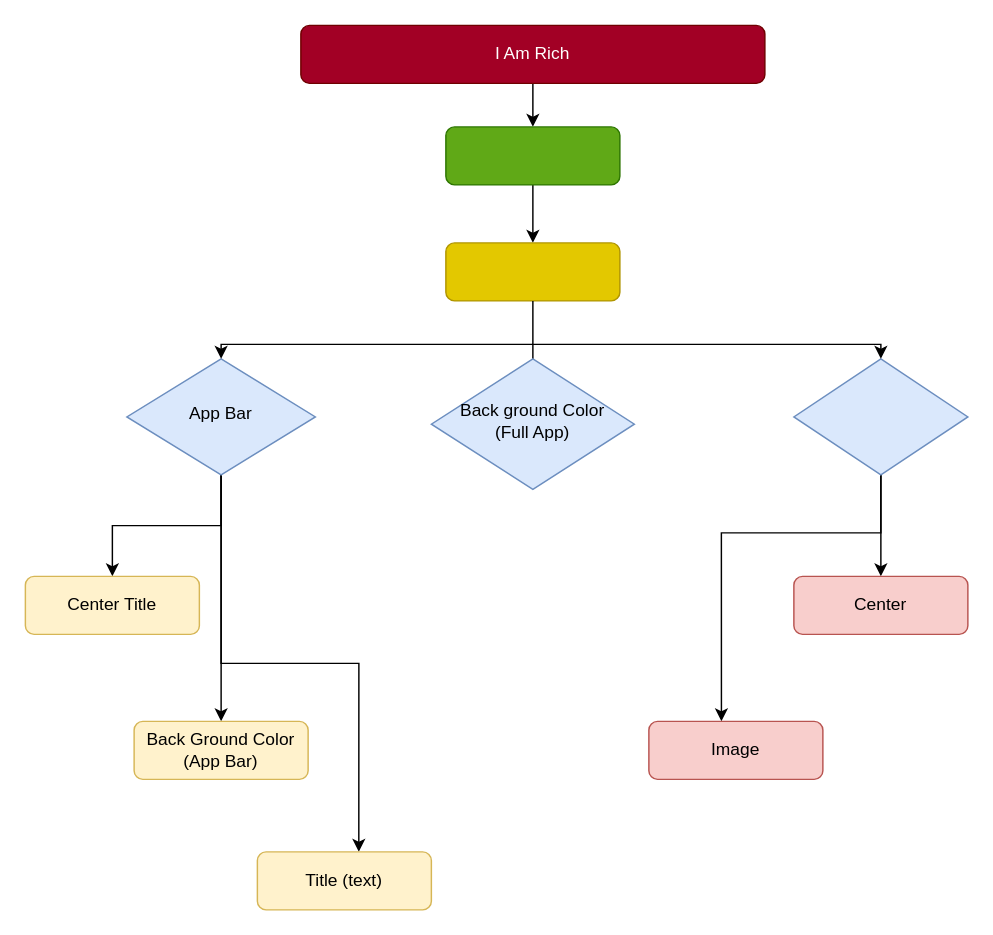
Some shapes in this 993 by 935 pixel diagram are drawn without their labels. The shapes that lost their labels are listed below. From the top down, each one's centre as x and y in pixels, then its label:
At point (532, 155): "Material App".
At point (532, 271): "Scaffold".
At point (880, 416): "Body".
